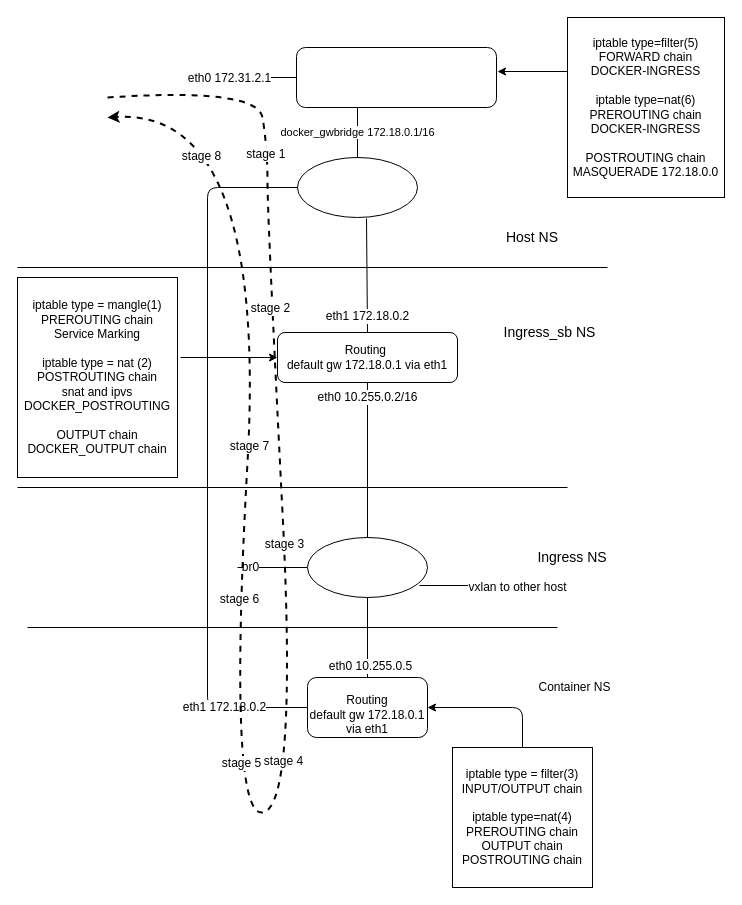
Some shapes in this 742 by 905 pixel diagram are drawn without their labels. Each missing label, with the box of its shape:
bridge br0: (306, 536, 428, 598)
docker_gwbridge: (296, 156, 418, 218)
Routing default gw 172.31.1.1/16 via eth0: (296, 46, 496, 108)
